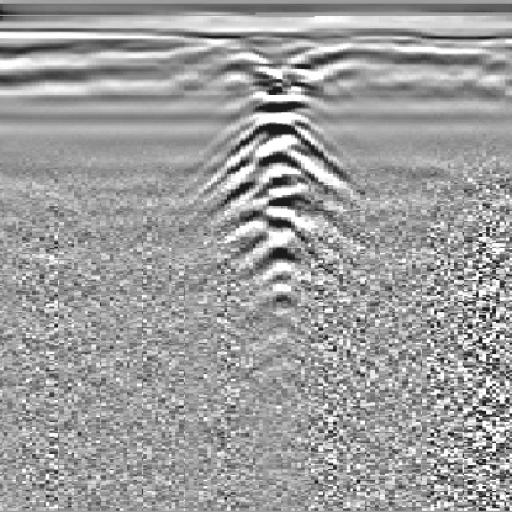metalic: (169, 56, 388, 322)
